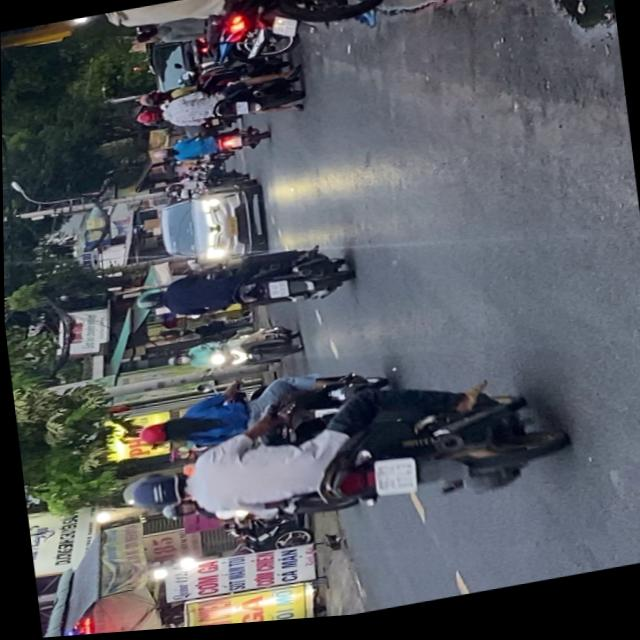helmet: (118, 470, 190, 519), (134, 421, 179, 451), (156, 502, 196, 526), (131, 293, 163, 316), (68, 14, 112, 30), (132, 110, 163, 130), (164, 356, 187, 371)
licenseplate: (111, 365, 571, 559), (127, 362, 400, 467), (62, 0, 391, 81), (127, 242, 354, 337), (131, 72, 306, 142), (162, 325, 303, 386)
nohelmet: (371, 461, 415, 505), (269, 18, 298, 45), (264, 285, 286, 304), (232, 105, 247, 119)
